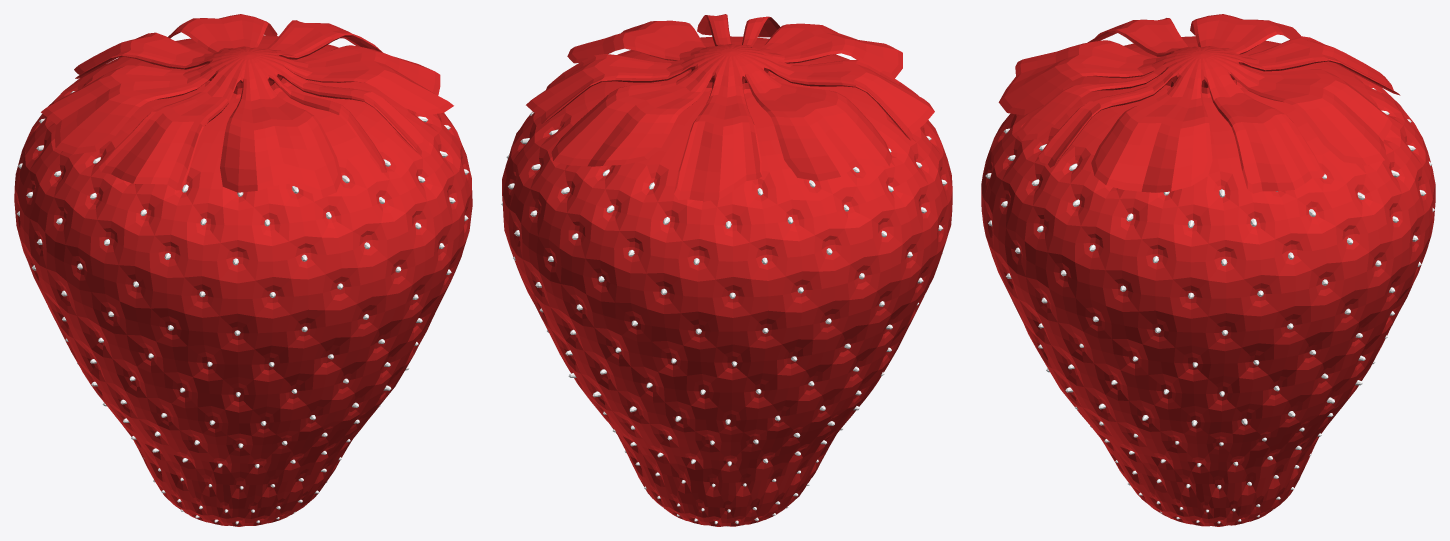
Rendered from Strawberry.obj.
3 renders of one model, left to right at view 1: azimuth 30°, elevation 25°; view 2: azimuth 150°, elevation 25°; view 3: azimuth 270°, elevation 25°, orthographic.
Parts seen in each view (by area): view 1: HyperNURBS_HyperNURBS_Mat.2, Seeds_Seeds_default; view 2: HyperNURBS_HyperNURBS_Mat.2, Seeds_Seeds_default; view 3: HyperNURBS_HyperNURBS_Mat.2, Seeds_Seeds_default.
Boxes of the visible parts, left/top/right/bottom form: HyperNURBS_HyperNURBS_Mat.2: left=14, top=14, right=472, bottom=526; Seeds_Seeds_default: left=17, top=91, right=468, bottom=525; HyperNURBS_HyperNURBS_Mat.2: left=502, top=14, right=952, bottom=526; Seeds_Seeds_default: left=501, top=112, right=946, bottom=526; HyperNURBS_HyperNURBS_Mat.2: left=981, top=14, right=1435, bottom=526; Seeds_Seeds_default: left=985, top=88, right=1434, bottom=523.
Size of the model in its own units: 144 by 161 by 144.
